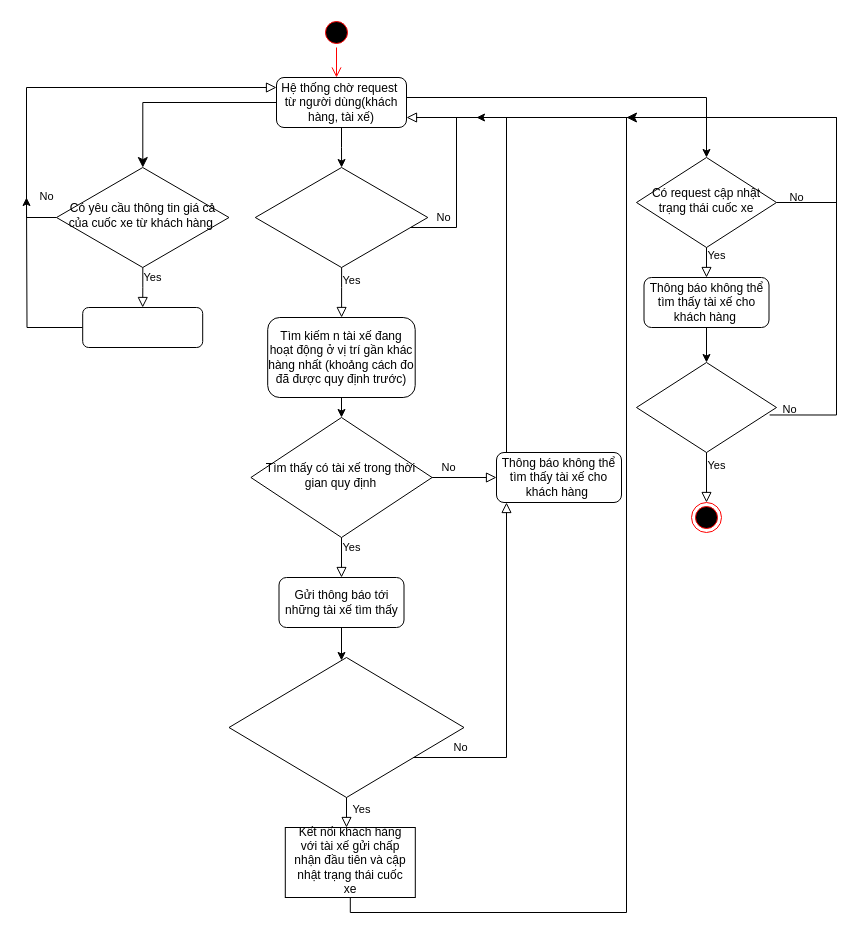
Image size: 864x931. Some labels were removed from this diagram. The box of each missing label's shape, as (x1, y1, x2, y2) in pixels:
Cuốc xe ở trạng thái hoàn thành: (636, 362, 776, 452)
Có request chấp nhận cuốc xe từ tài xế: (228, 656, 464, 798)
Có request tạo cuốc xe từ khách hàng: (254, 166, 428, 268)
Gửi giá cả của các của các loại xe cho khách hàng: (82, 306, 203, 348)
